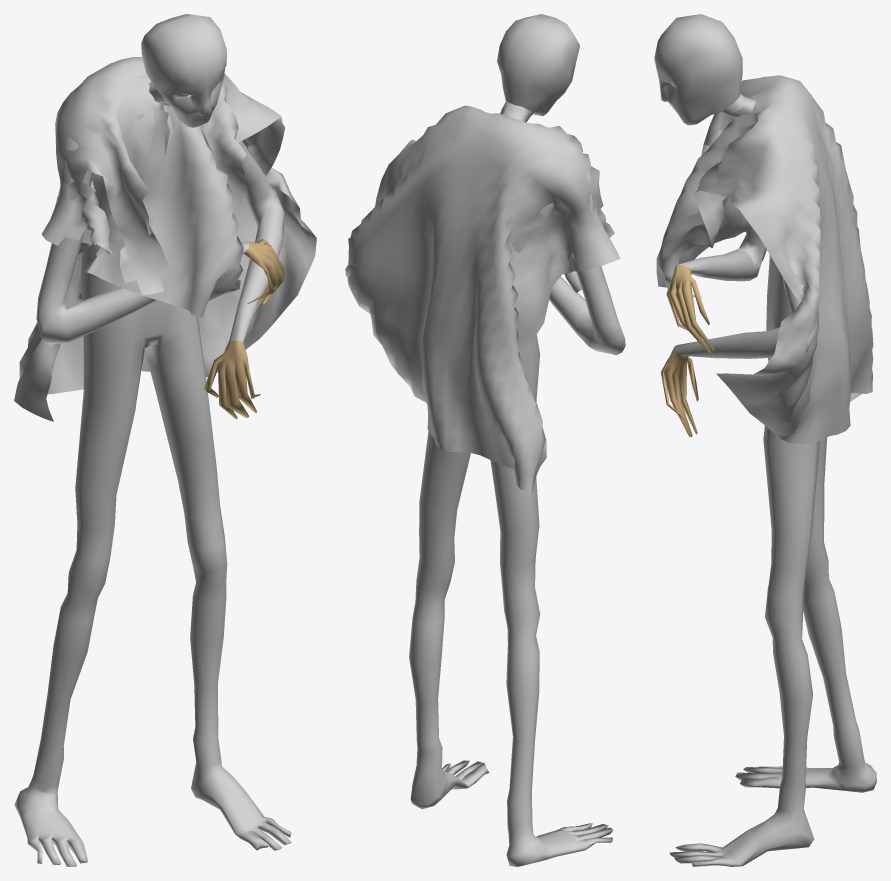
The model's file is Fantasma.obj.
The picture shows the model from 3 angles, left to right: view 1: azimuth 30°, elevation 25°; view 2: azimuth 150°, elevation 25°; view 3: azimuth 270°, elevation 25°; orthographic projection. The views are drawn at different scales.
Parts seen in each view (by area): view 1: body_Cylinder, cap_Plane.001, head_baseHeadMesh; view 2: cap_Plane.001, body_Cylinder, head_baseHeadMesh; view 3: cap_Plane.001, body_Cylinder, head_baseHeadMesh.
Boxes of the visible parts, left/top/right/bottom form: body_Cylinder: left=14, top=75, right=291, bottom=866; cap_Plane.001: left=14, top=57, right=316, bottom=421; head_baseHeadMesh: left=141, top=14, right=226, bottom=127; cap_Plane.001: left=347, top=105, right=620, bottom=492; body_Cylinder: left=345, top=171, right=625, bottom=866; head_baseHeadMesh: left=497, top=14, right=579, bottom=122; cap_Plane.001: left=656, top=75, right=873, bottom=443; body_Cylinder: left=661, top=90, right=876, bottom=866; head_baseHeadMesh: left=654, top=14, right=756, bottom=125.
Size of the model in its own units: 1.17 by 3.31 by 0.8299.
